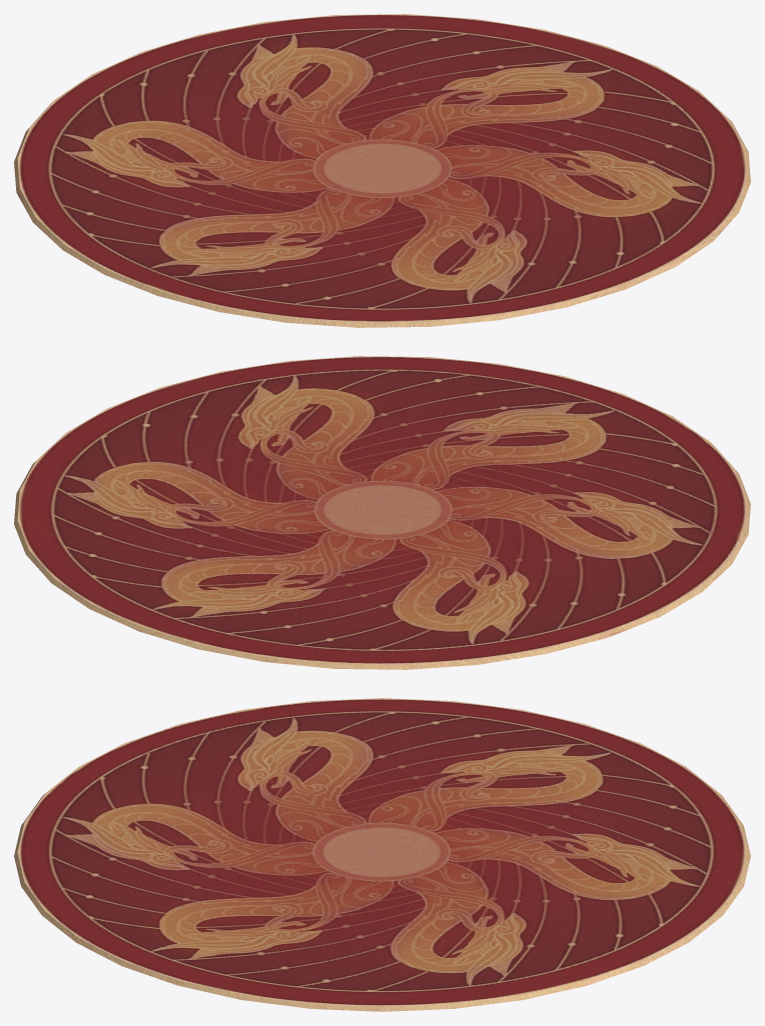
The model's file is mod_zlc_jianzhu047_xy.FBX.
3 views of the same model, one above another, from view 1: azimuth 30°, elevation 25°; view 2: azimuth 150°, elevation 25°; view 3: azimuth 270°, elevation 25° (orthographic).
Visible parts, largest first — view 1: mod_zlc_jianzhu047_xy; view 2: mod_zlc_jianzhu047_xy; view 3: mod_zlc_jianzhu047_xy.
Boxes of the visible parts, x1=… form: mod_zlc_jianzhu047_xy: x1=14, y1=14, x2=750, y2=327; mod_zlc_jianzhu047_xy: x1=14, y1=356, x2=750, y2=669; mod_zlc_jianzhu047_xy: x1=14, y1=698, x2=750, y2=1011.
Size of the model in its own units: 20.81 by 0.1189 by 20.81.
Materials: 1 (1 with a texture image).
